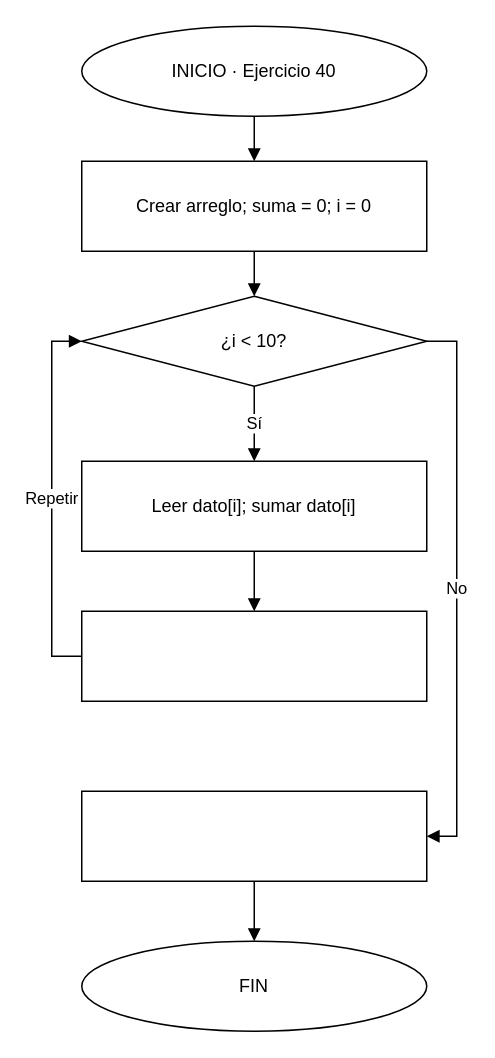
The diagram is 495 pixels wide and 1058 high, and some of its shapes have lost their labels. The centre of each missing label's shape, as x and y in pixels:
"i = i + 1" goes at point (253, 655).
"Mostrar resultado final / terminar el proceso" goes at point (253, 835).
